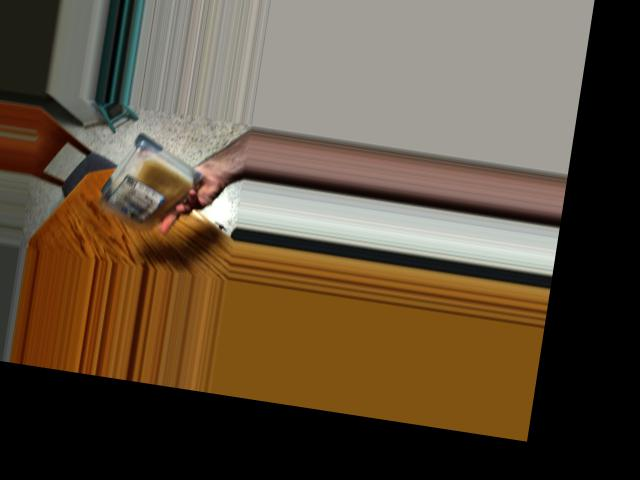cheese: (90, 134, 203, 227)
